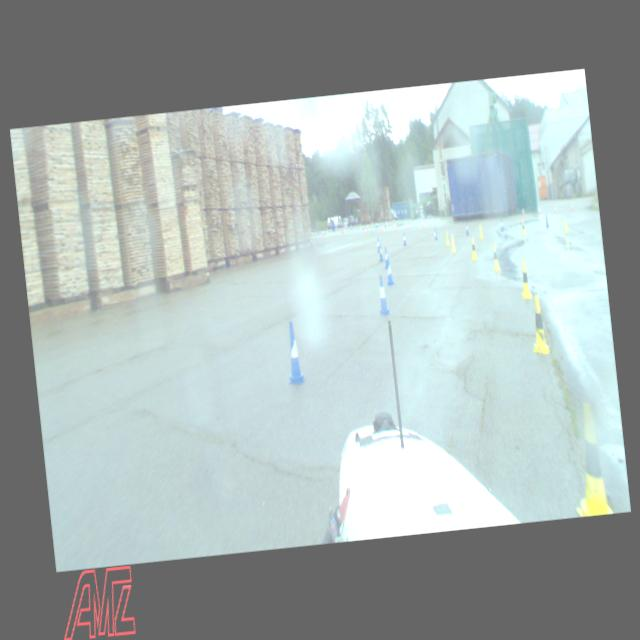blue_cone: (282, 321, 306, 385), (376, 275, 388, 315), (384, 256, 394, 285), (383, 246, 389, 268), (378, 243, 383, 261), (432, 227, 438, 240), (544, 213, 550, 226), (402, 232, 407, 245), (376, 236, 380, 252), (499, 218, 504, 230), (464, 222, 468, 234)
yellow_cone: (565, 402, 614, 516), (527, 294, 550, 354), (518, 260, 532, 298), (491, 242, 500, 272), (470, 237, 478, 260), (450, 233, 456, 250), (562, 217, 568, 233), (520, 220, 526, 234), (477, 224, 482, 238), (444, 230, 448, 244)
